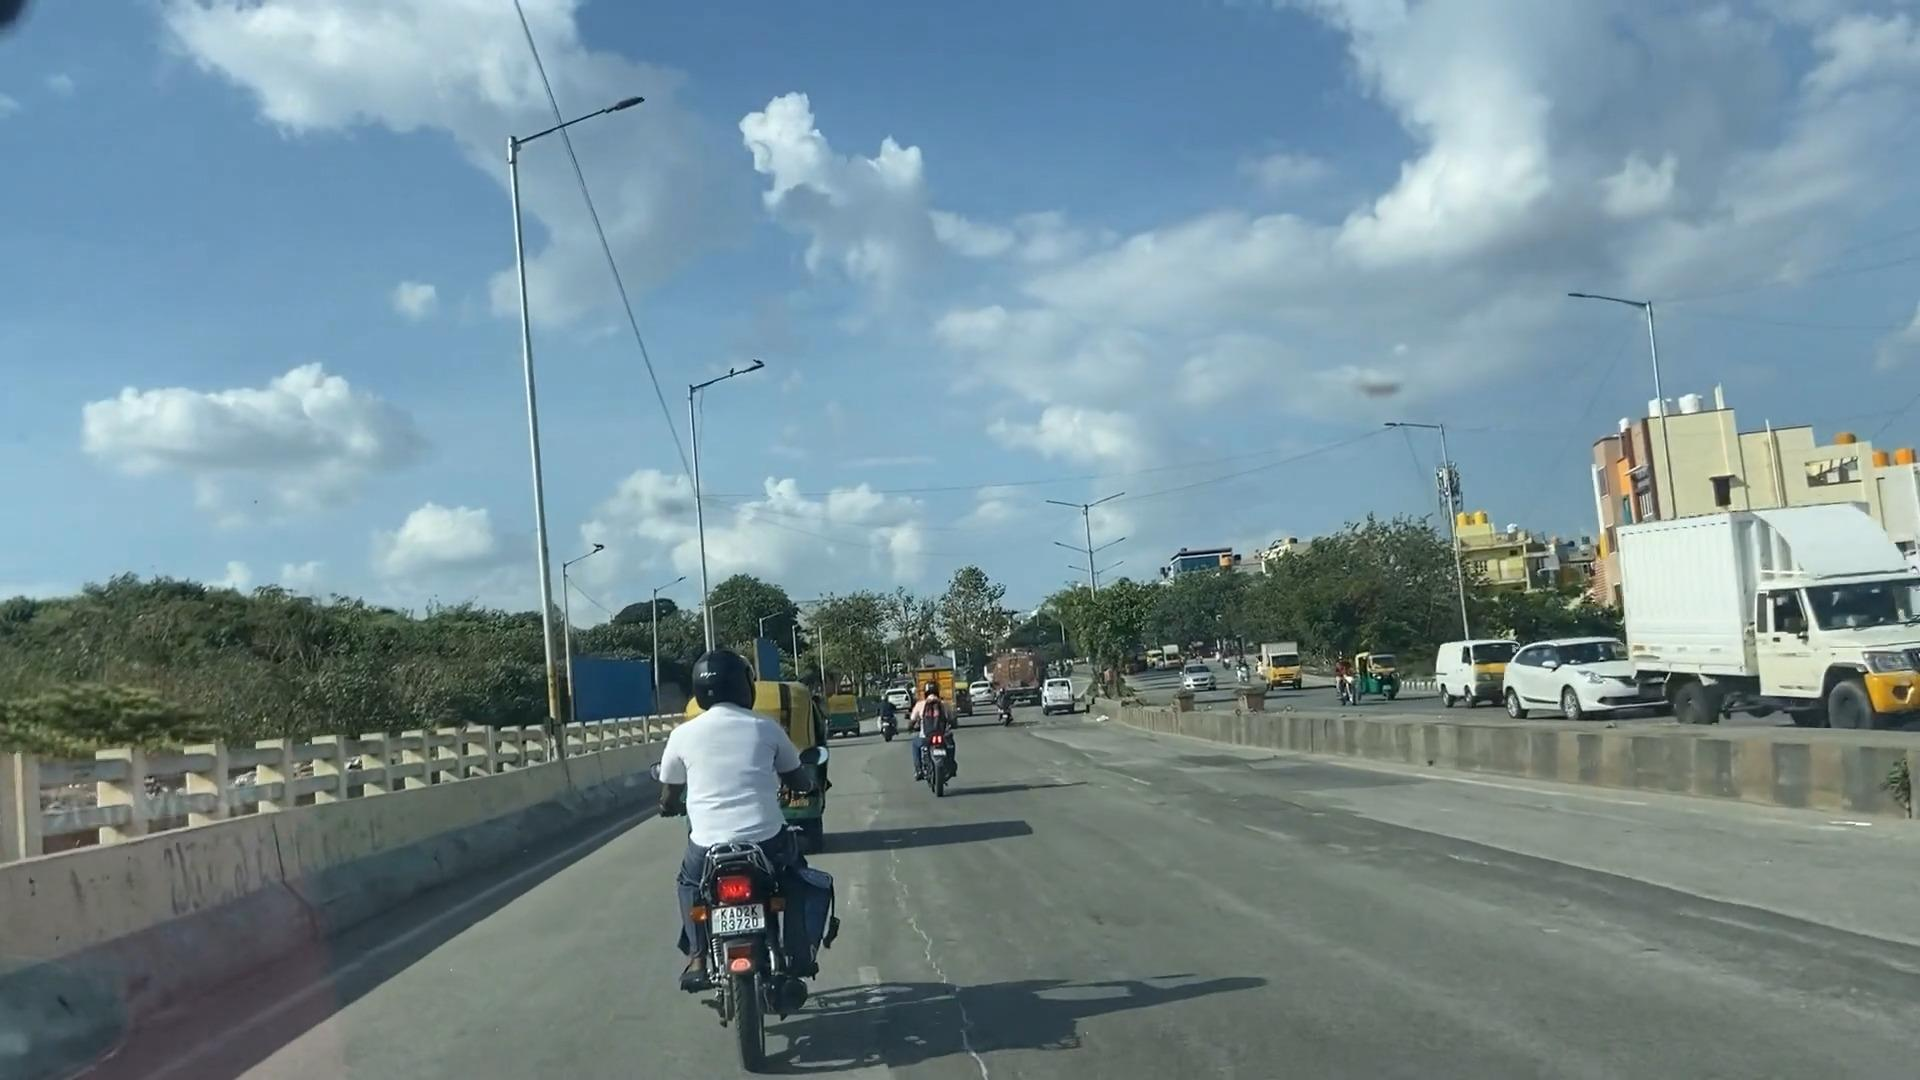RoadDamages: (839, 851, 978, 1072)
